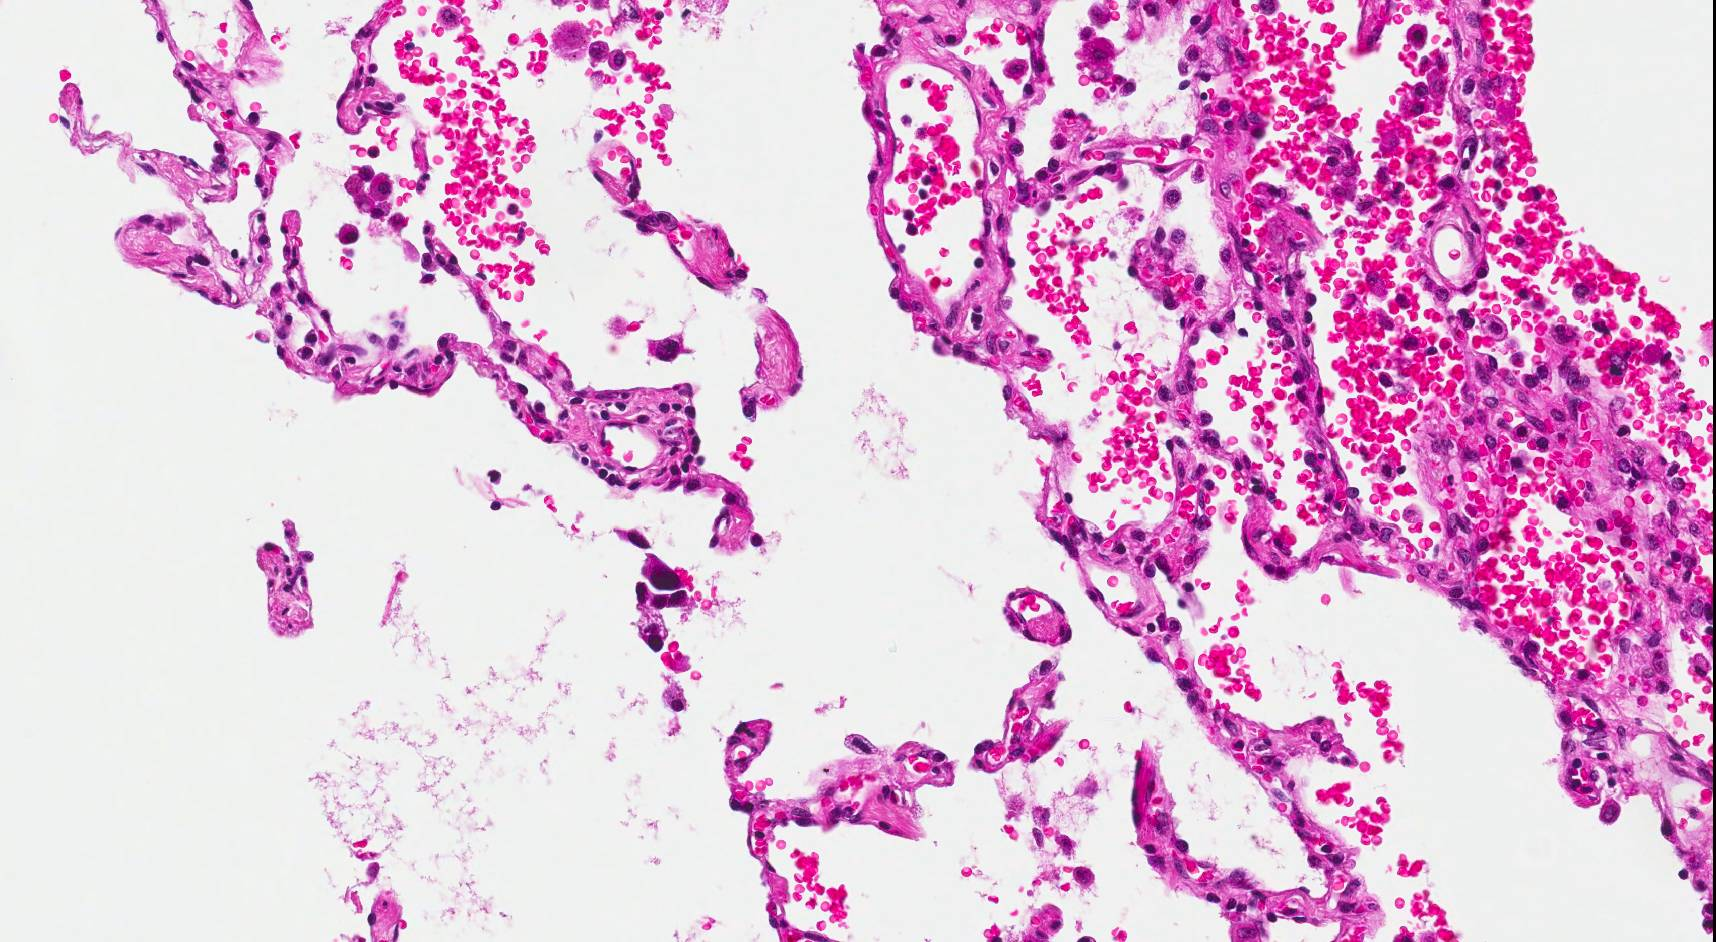stas: (613, 524, 698, 652)
